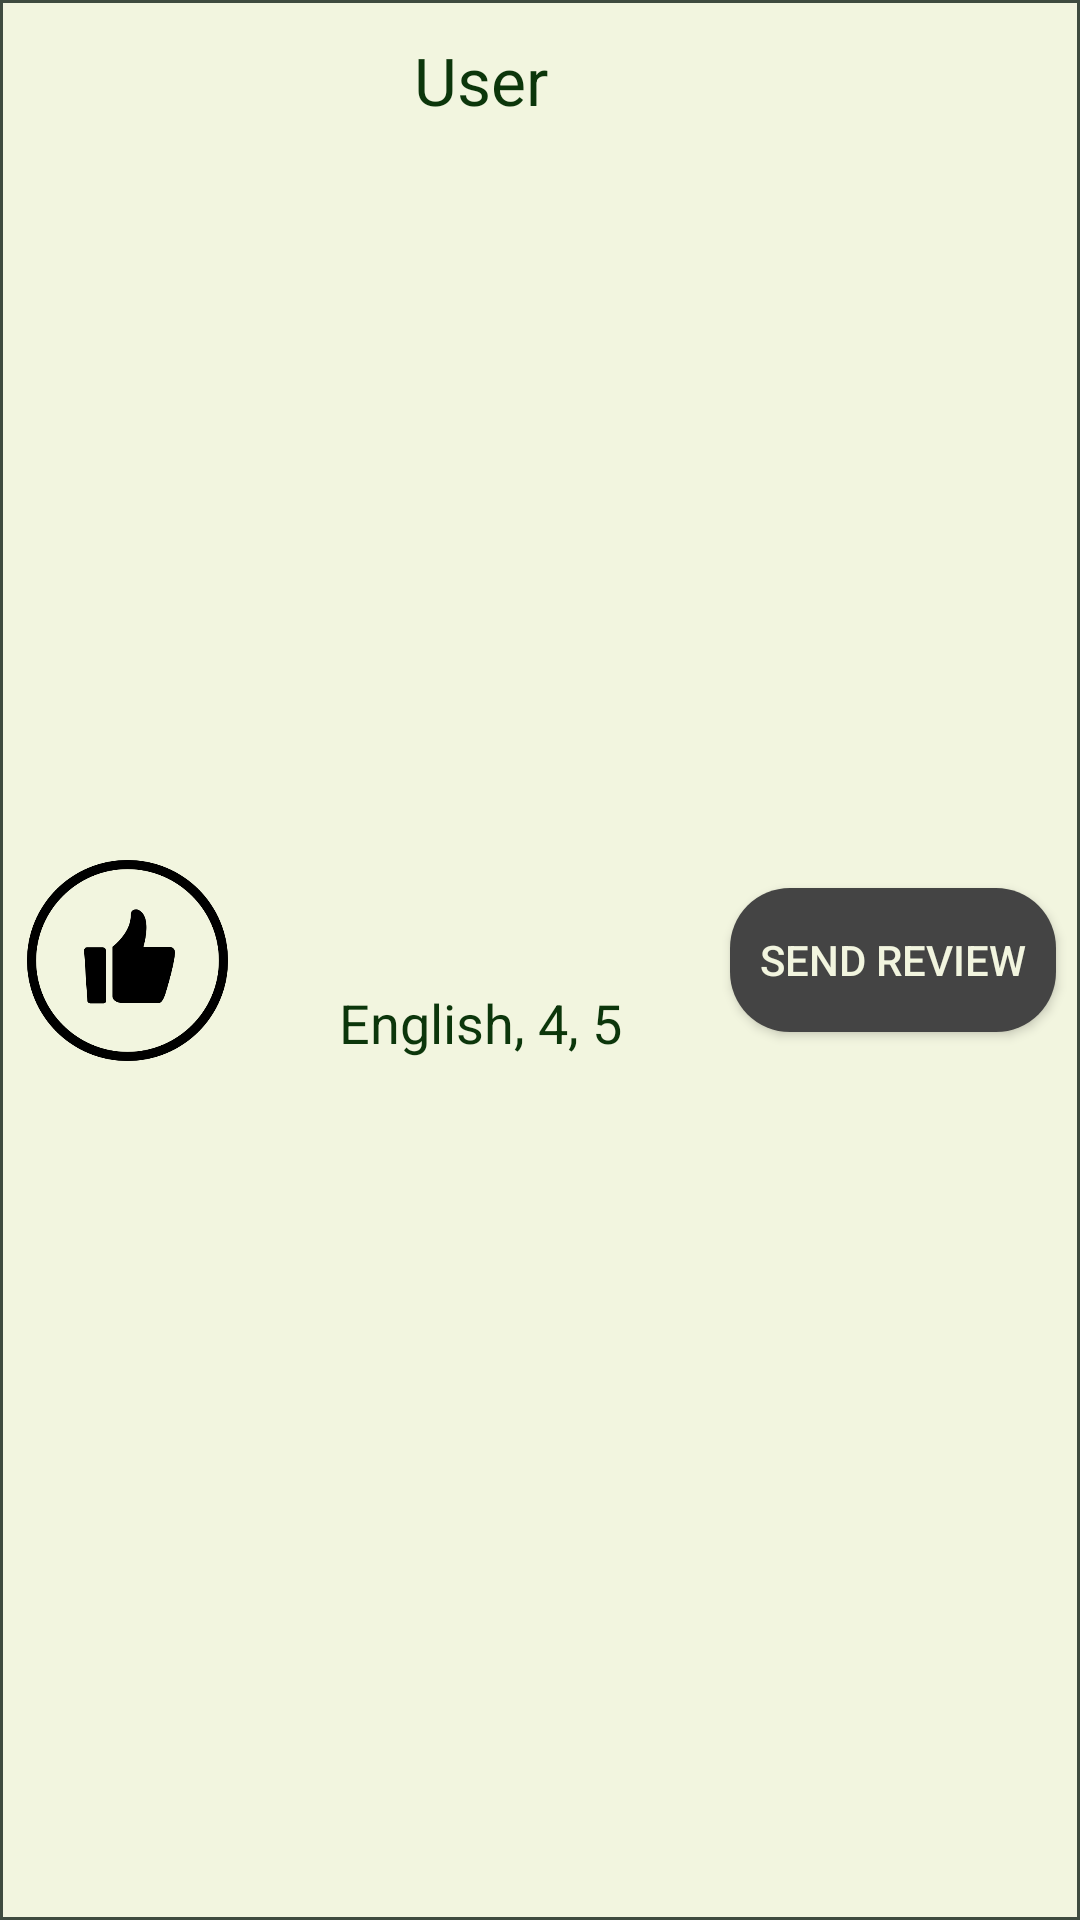

Where icons sit on this 1080×1920 app screen, as bbox=(x1, y1, x2, y2):
recommended user: bbox=(27, 860, 228, 1061)
